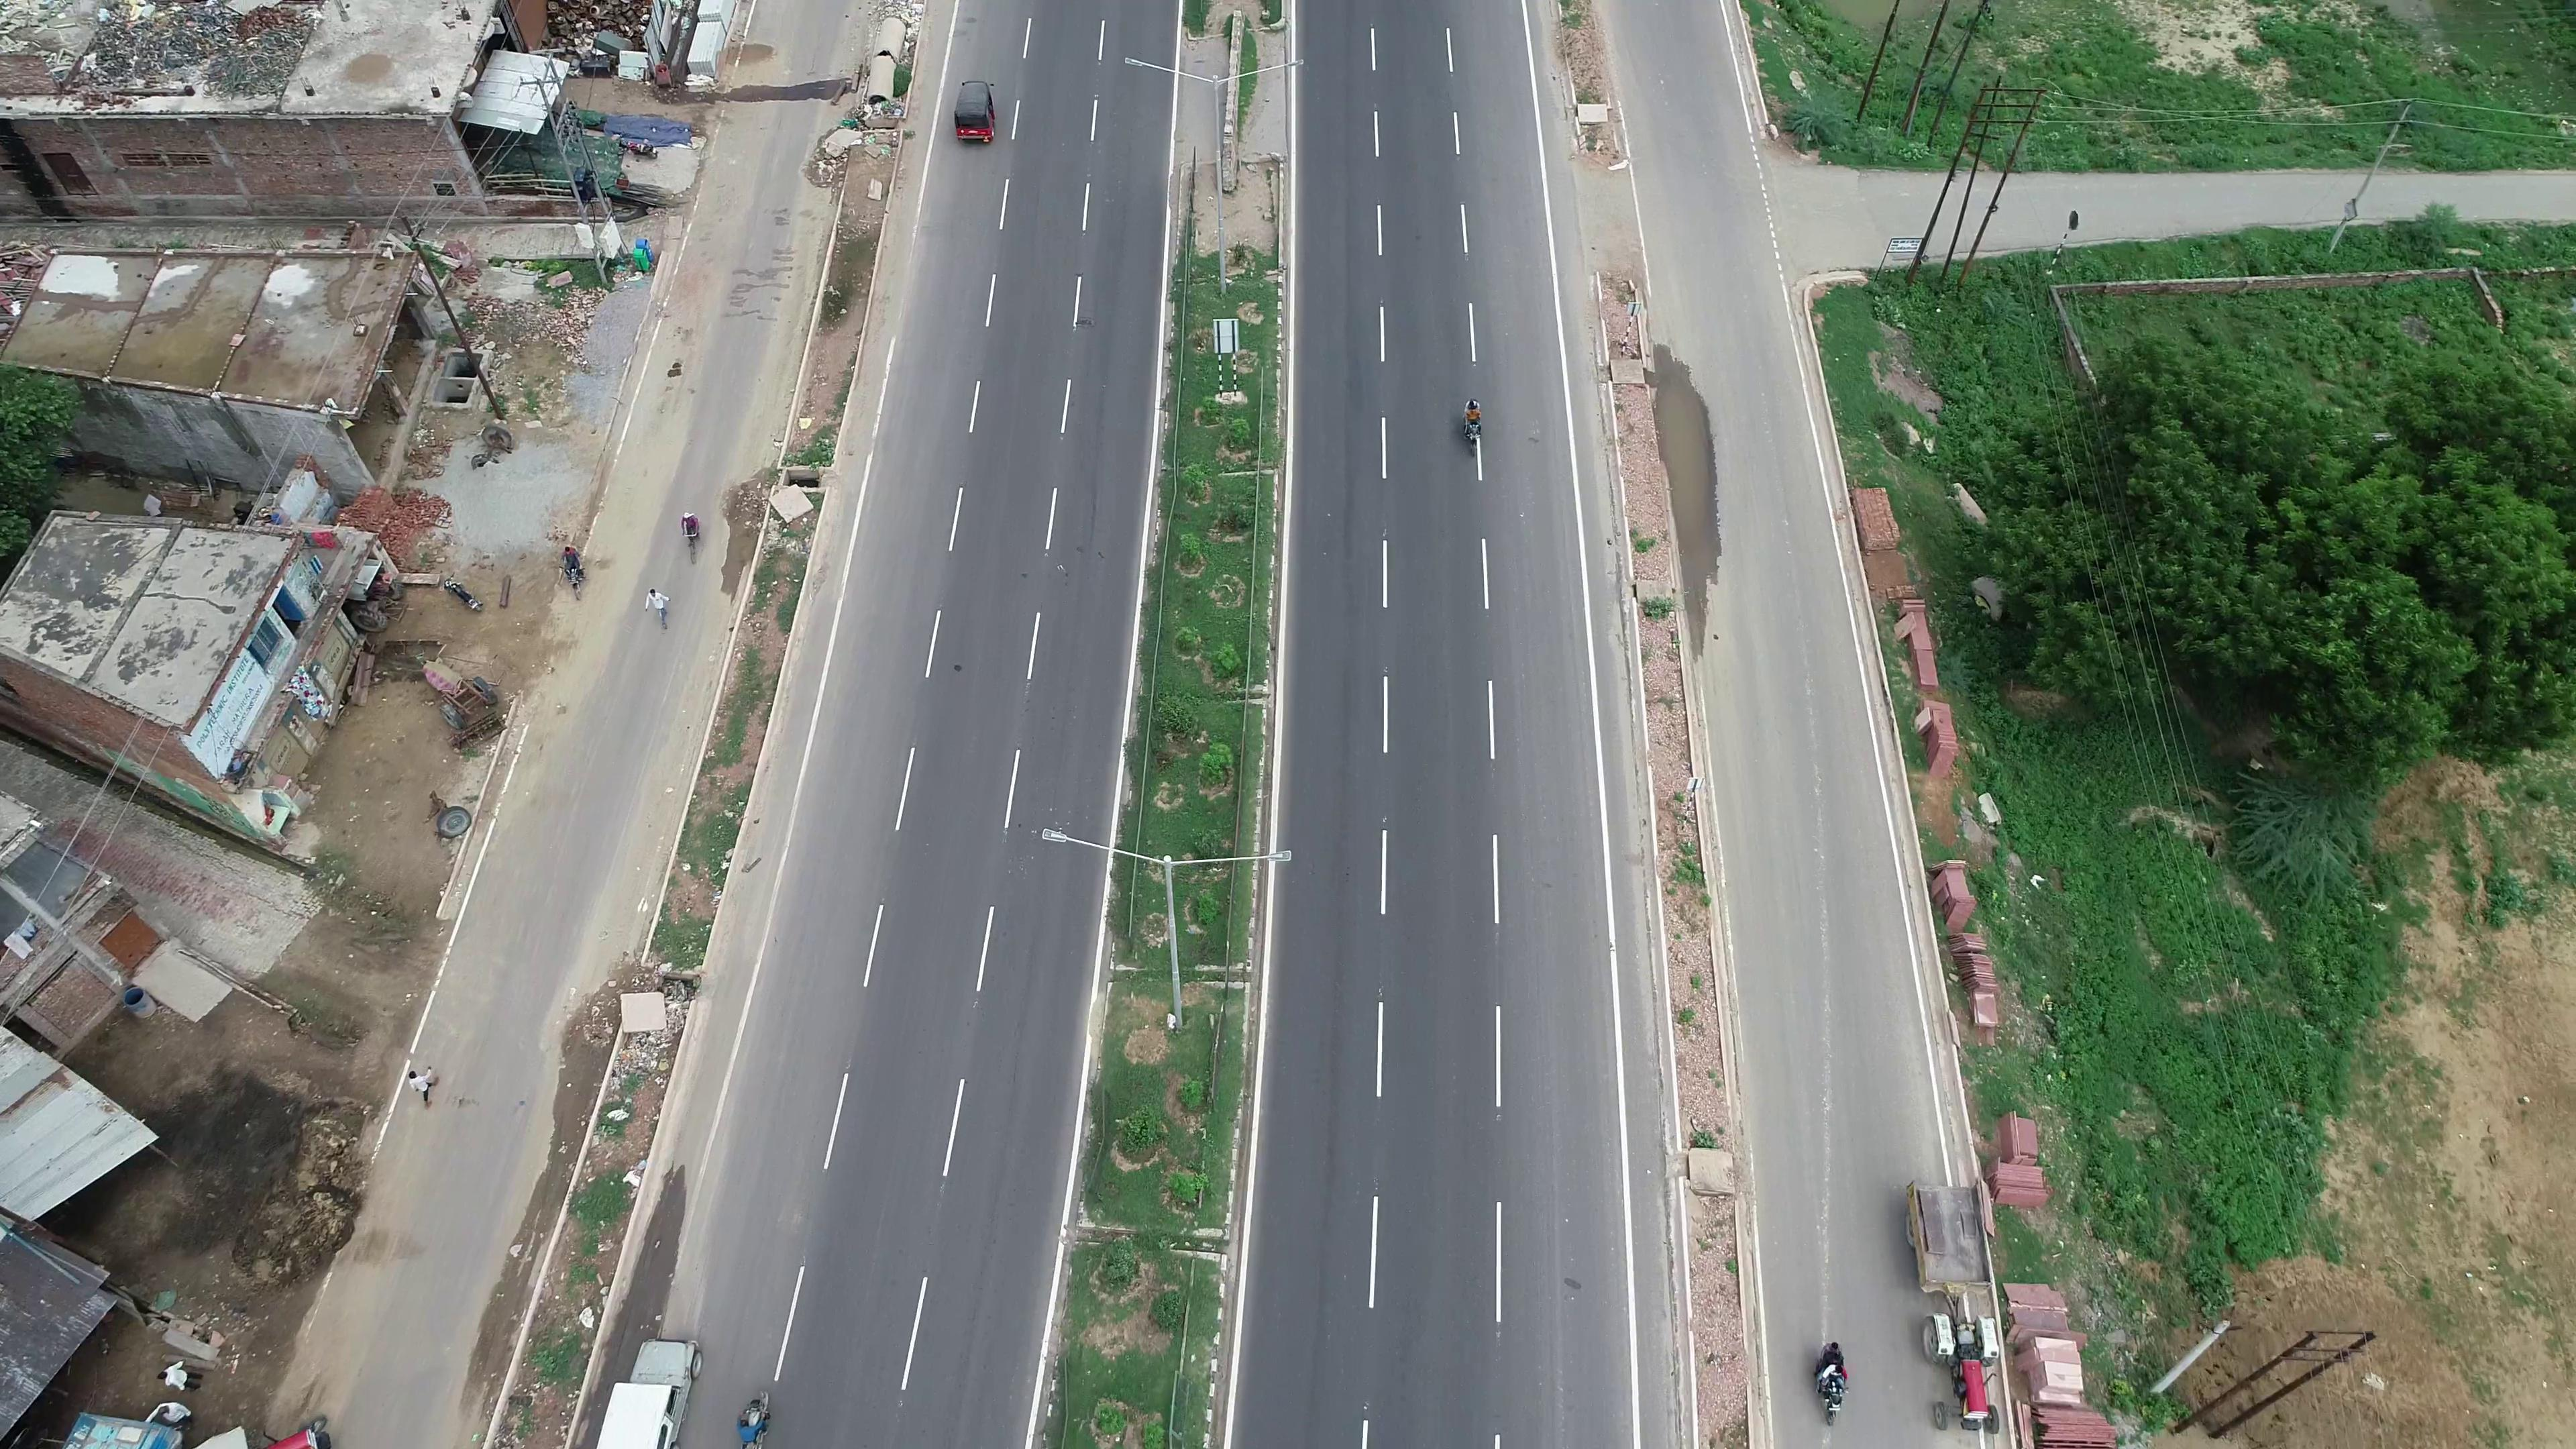Waterlogging: (1658, 349, 1723, 541)
